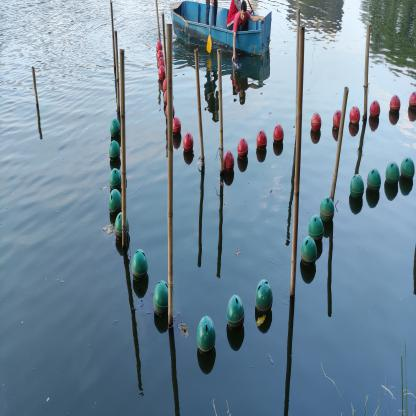green_buoy: (194, 311, 218, 363), (224, 289, 245, 341), (255, 275, 273, 319), (300, 234, 317, 276), (130, 248, 148, 284), (318, 193, 335, 229), (154, 279, 168, 319), (308, 212, 324, 246), (350, 170, 365, 206), (366, 167, 381, 200), (401, 155, 414, 188), (386, 161, 400, 191), (116, 215, 130, 242), (109, 136, 121, 166), (109, 190, 123, 212), (109, 166, 122, 187), (110, 118, 121, 140)
red_buoy: (236, 135, 248, 165), (310, 113, 322, 140), (369, 100, 381, 125), (389, 94, 401, 119), (183, 134, 194, 161), (273, 123, 284, 149), (257, 131, 267, 159), (224, 151, 234, 177), (172, 116, 182, 138), (332, 108, 341, 131), (350, 107, 360, 124), (410, 91, 415, 114), (158, 64, 166, 78), (163, 90, 168, 107), (156, 40, 162, 50), (163, 77, 168, 88), (157, 50, 163, 56)
